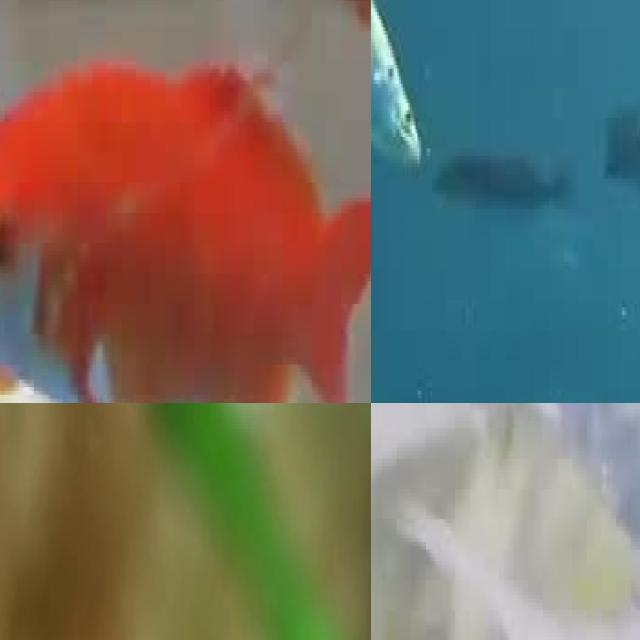fish: (0, 0, 371, 403), (371, 403, 640, 640)
